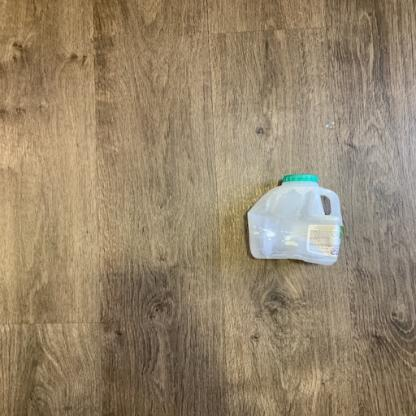trash: (242, 172, 354, 268)
